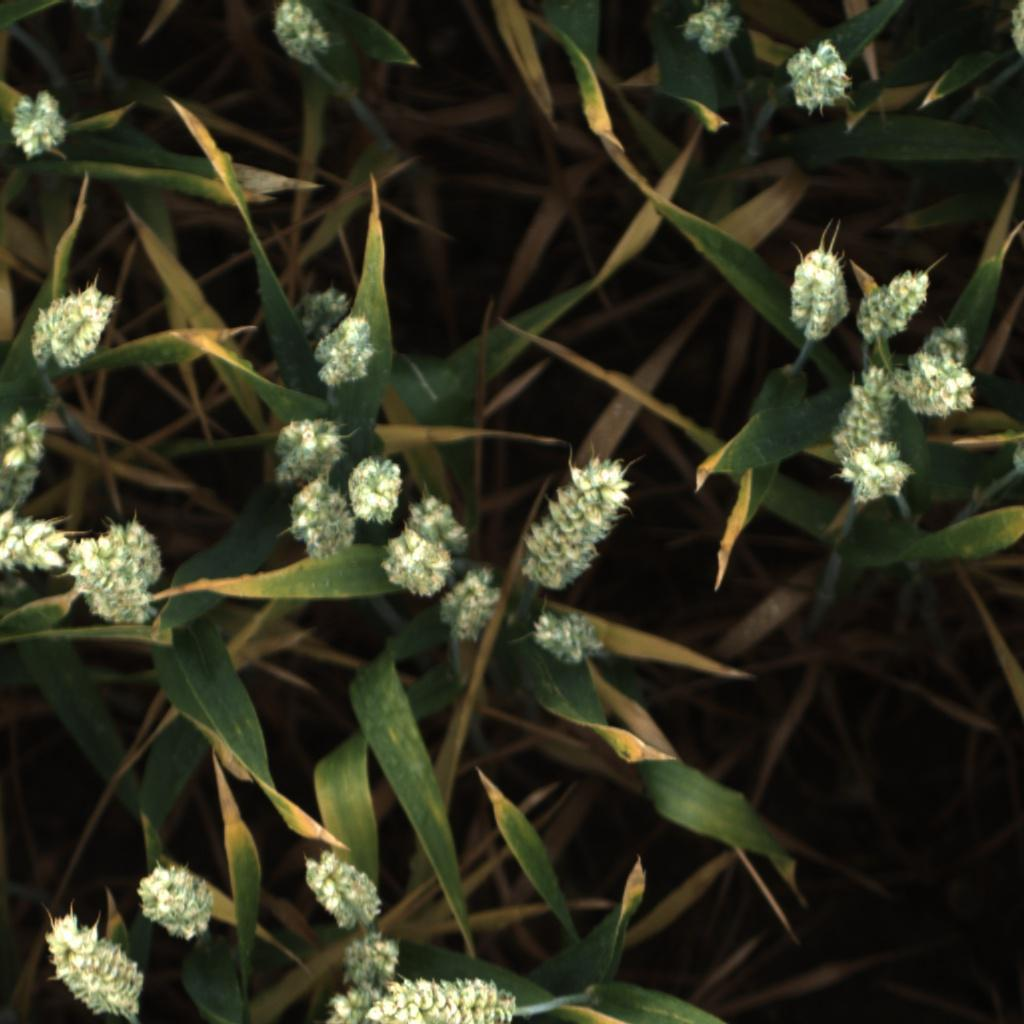0-0: (519, 455, 632, 596), (42, 904, 146, 1019), (68, 533, 159, 630), (26, 279, 118, 372), (365, 973, 518, 1024), (827, 363, 900, 467), (300, 850, 391, 932), (129, 859, 220, 941), (781, 247, 853, 343), (432, 562, 509, 650), (779, 36, 861, 118), (854, 261, 936, 343), (893, 349, 978, 424), (833, 442, 918, 510), (287, 483, 359, 562), (271, 415, 345, 490), (380, 529, 458, 599), (0, 507, 72, 582), (0, 408, 53, 507), (311, 314, 378, 390), (534, 609, 615, 668), (268, 0, 336, 68), (101, 518, 166, 587), (347, 455, 409, 526), (407, 490, 471, 558), (10, 90, 68, 160), (297, 284, 369, 339), (681, 1, 744, 58), (343, 933, 406, 988), (326, 982, 386, 1024), (921, 322, 971, 368), (1005, 0, 1024, 62)
